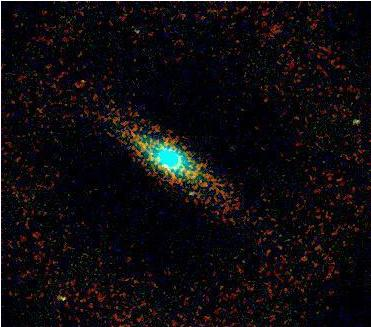star: (68, 62, 98, 92)
